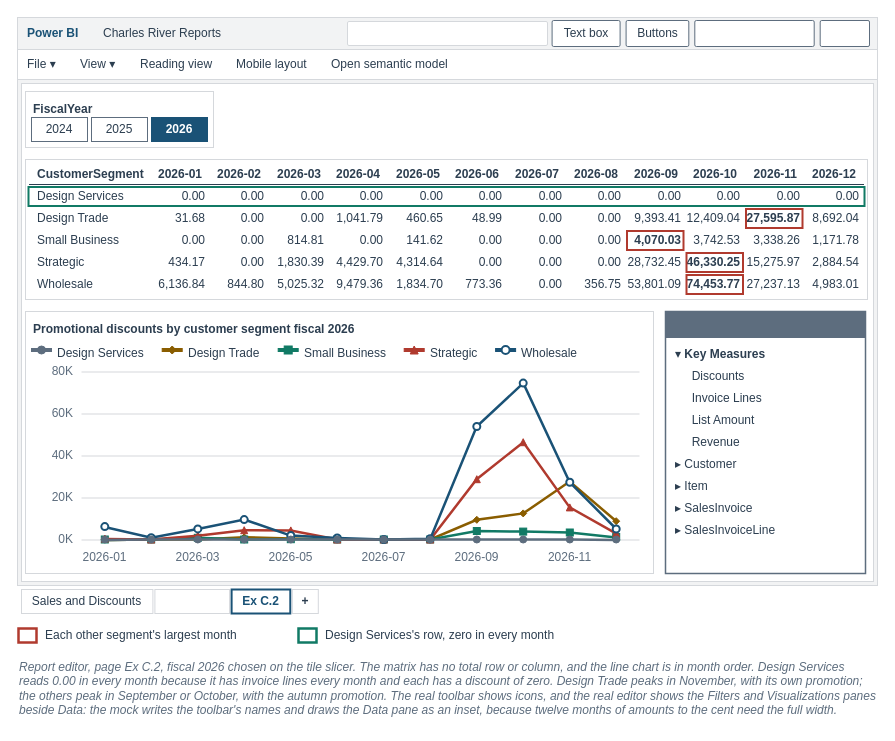
The diagram is 895 pixels wide and 741 high, and some of its shapes have lost their labels. Here are the shapes that lost their labels. From the top down, the centre of each, then its label:
At [447,33]: "Search".
At [754,33]: "Visual interactions".
At [844,33]: "Save".
At [765,324]: "Data pane (inset)".
At [192,601]: "Validation".
